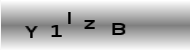1: (49, 24, 63, 39)
B: (111, 22, 126, 36)
Y: (25, 24, 39, 39)
l: (67, 10, 72, 25)
z: (82, 19, 97, 30)
